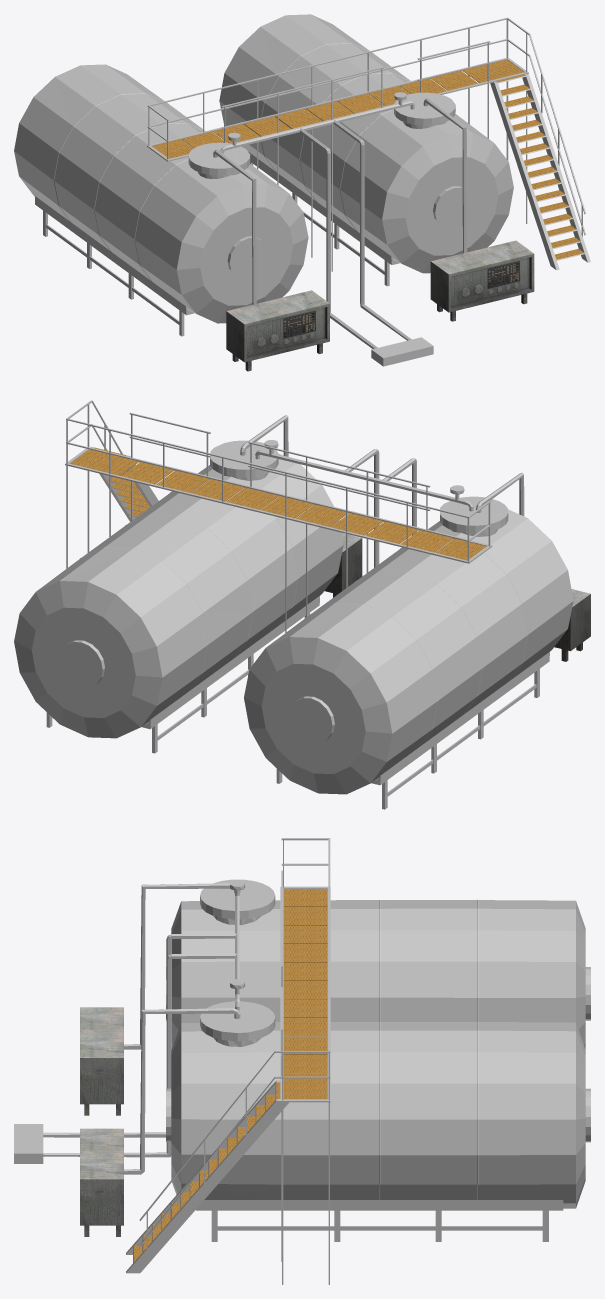
The model's file is Environmet_5.fbx.
The picture shows the model from 3 angles, top to bottom: view 1: azimuth 30°, elevation 25°; view 2: azimuth 150°, elevation 25°; view 3: azimuth 270°, elevation 25°; orthographic projection. The views are drawn at different scales.
Visible parts, largest first — view 1: Environmet_5; view 2: Environmet_5; view 3: Environmet_5.
Boxes of the visible parts, left/top/right/bottom form: Environmet_5: left=14, top=14, right=590, bottom=371; Environmet_5: left=14, top=400, right=590, bottom=809; Environmet_5: left=14, top=838, right=590, bottom=1284.
Bounding box in the file's own units: 8.13 × 3.79 × 8.48.
